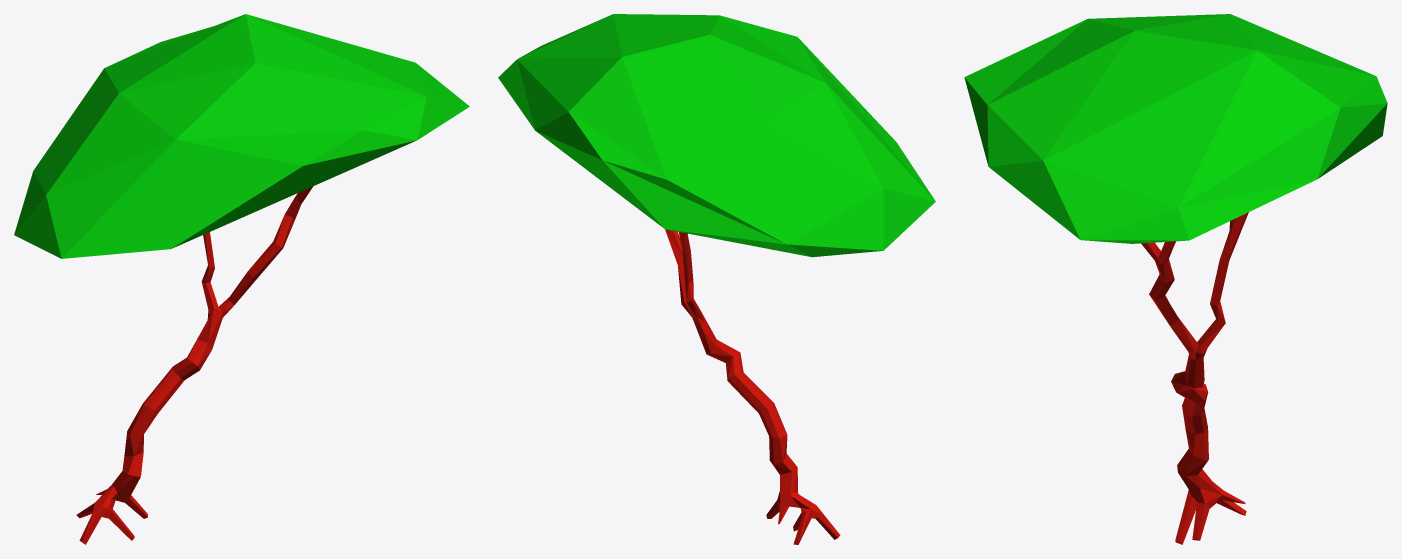
The model's file is bendyTree.obj.
3 views of the same model, side by side, from view 1: azimuth 30°, elevation 25°; view 2: azimuth 150°, elevation 25°; view 3: azimuth 270°, elevation 25° (orthographic). The views are drawn at different scales.
Parts seen in each view (by area): view 1: Icosphere_Icosphere.001, Plane_Plane.001; view 2: Icosphere_Icosphere.001, Plane_Plane.001; view 3: Icosphere_Icosphere.001, Plane_Plane.001.
Boxes of the visible parts, x1,y1,x2,y2 form: Icosphere_Icosphere.001: (14,14,469,258); Plane_Plane.001: (76,186,312,544); Icosphere_Icosphere.001: (498,14,935,257); Plane_Plane.001: (665,229,840,544); Icosphere_Icosphere.001: (964,14,1387,243); Plane_Plane.001: (1141,212,1248,544).
Bounding box in the file's own units: 3.22 × 3.56 × 2.35.
